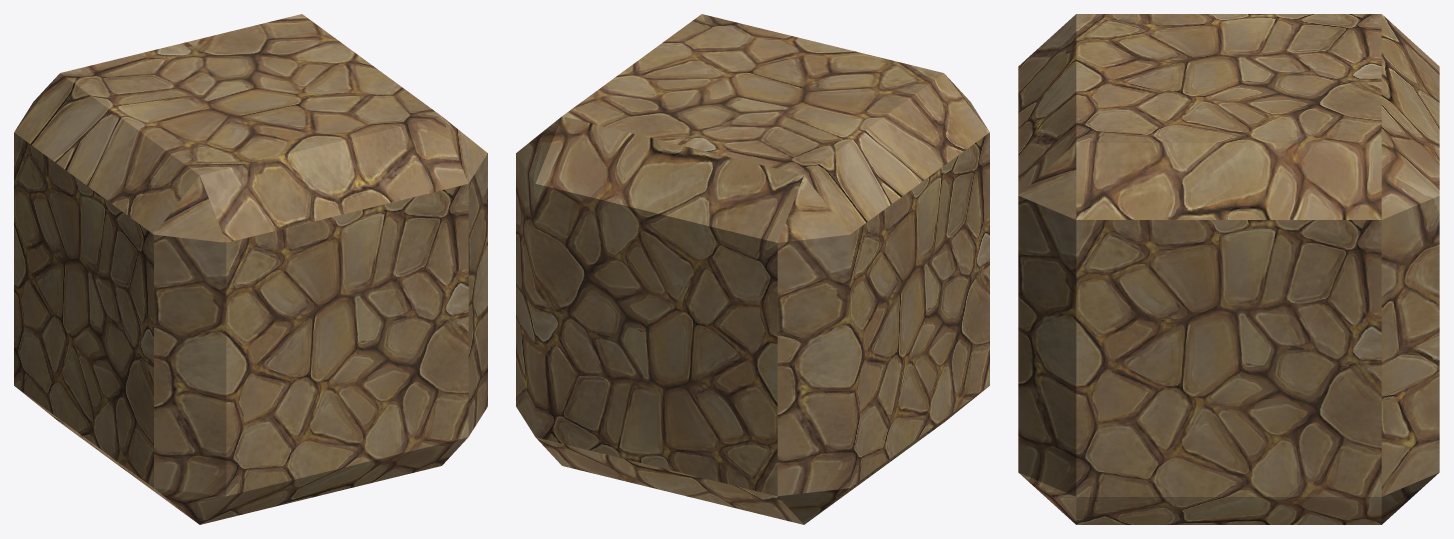
The model's file is stage4_Breakable.gltf.
The picture shows the model from 3 angles, left to right: view 1: azimuth 30°, elevation 25°; view 2: azimuth 150°, elevation 25°; view 3: azimuth 270°, elevation 25°; orthographic projection. The views are drawn at different scales.
Parts seen in each view (by area): view 1: Cube; view 2: Cube; view 3: Cube.
Boxes of the visible parts, x1,y1,x2,y2 form: Cube: [14, 14, 487, 524]; Cube: [516, 14, 989, 524]; Cube: [1018, 14, 1439, 524].
Bounding box in the file's own units: 1.85 × 1.85 × 1.85.
Materials: 1 (1 with a texture image).
